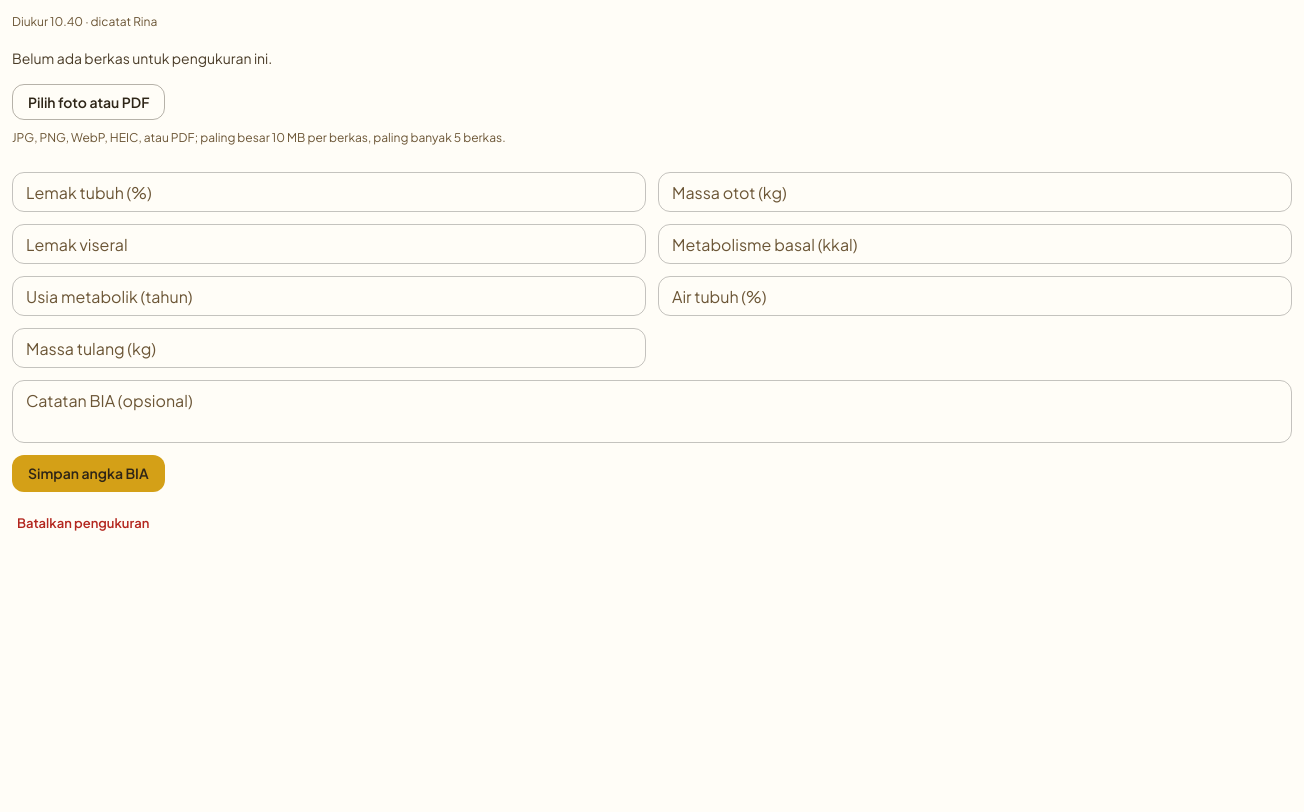
tab BIA halaman kunjungan › menyimpan angka dengan koma desimal, lalu memakai versi baru untuk simpan berikutnya
In the field labelled "Lemak tubuh (%)": coordinates (329, 192) [12,172,646,212], type "28,5"
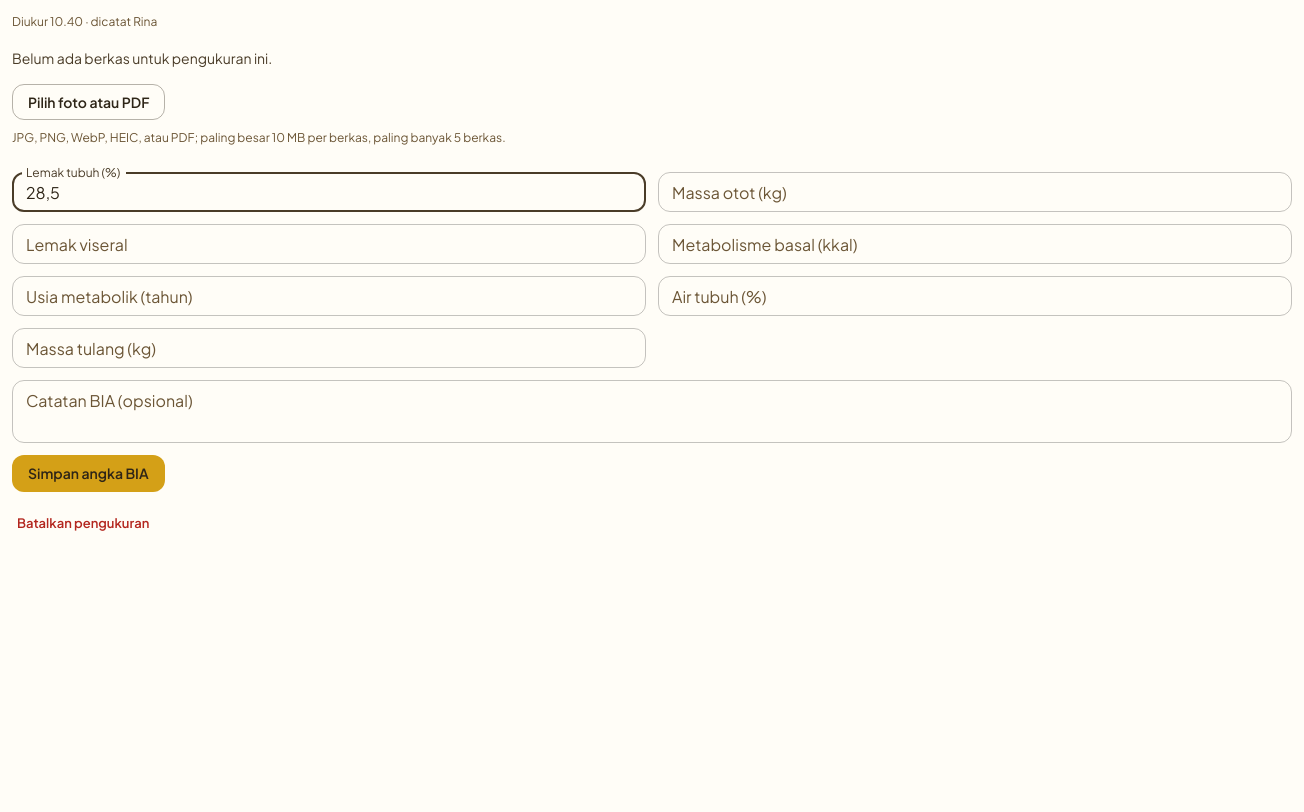
In the field labelled "Massa otot (kg)": coordinates (975, 192) [658,172,1292,212], type "41"
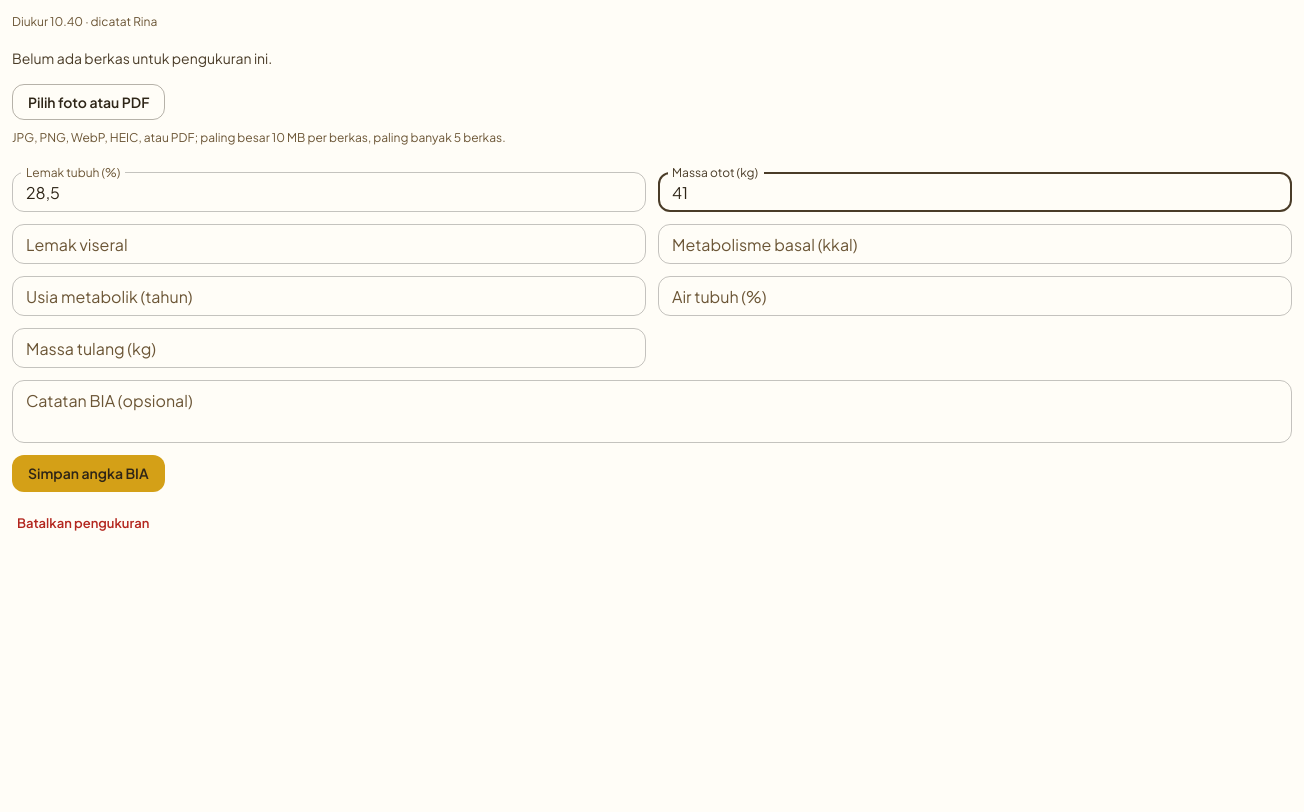
Click the button "Simpan angka BIA": coordinates (88, 474) [12,455,165,492]
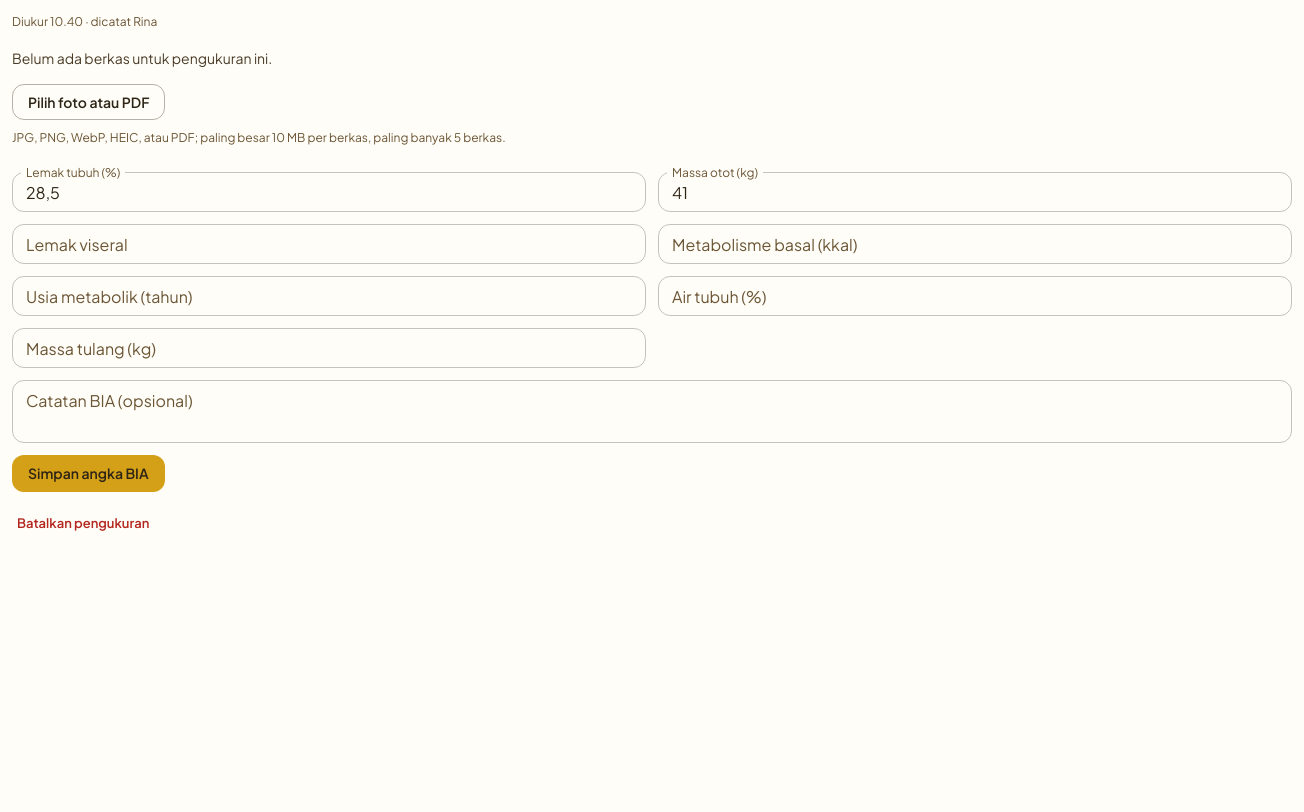
Replace the text in the field labelled "Lemak tubuh (%)" with "1": coordinates (329, 192) [12,172,646,212]
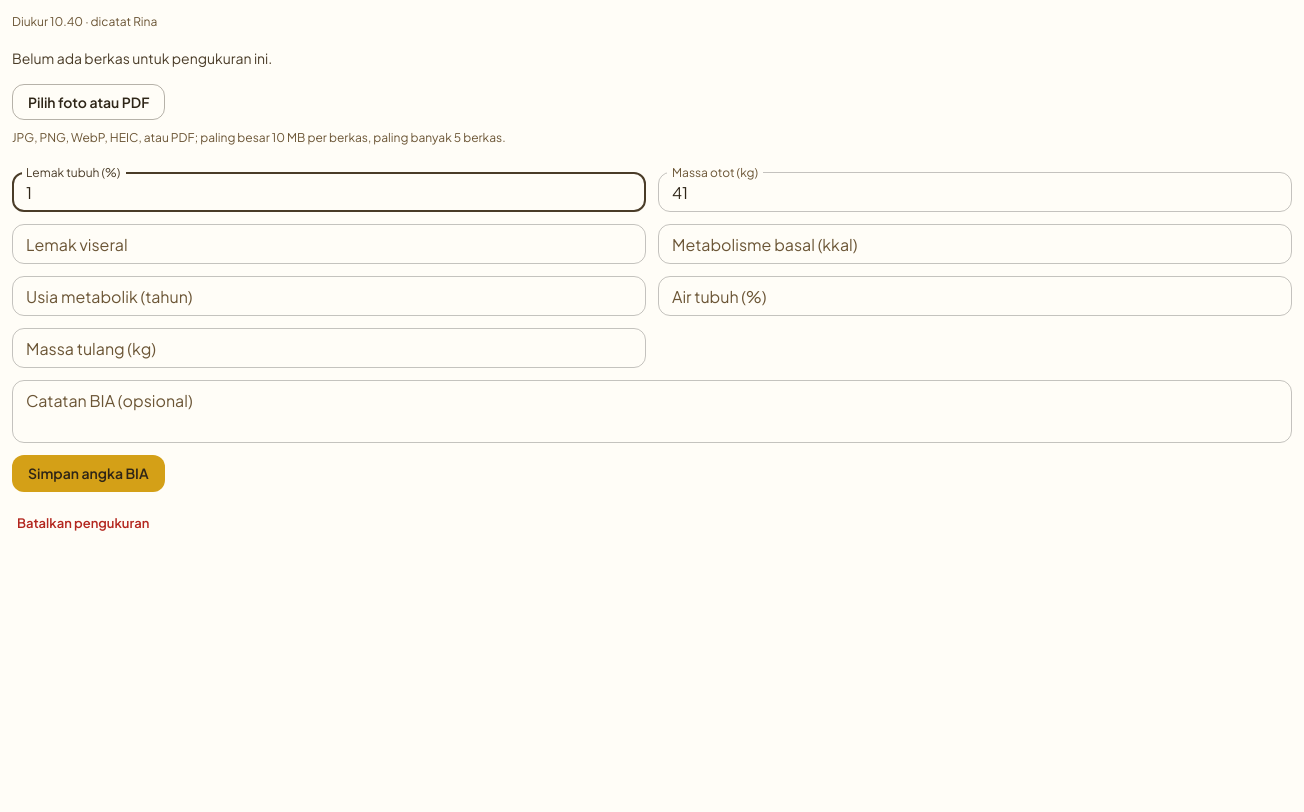
Click the button "Simpan angka BIA": coordinates (88, 474) [12,455,165,492]
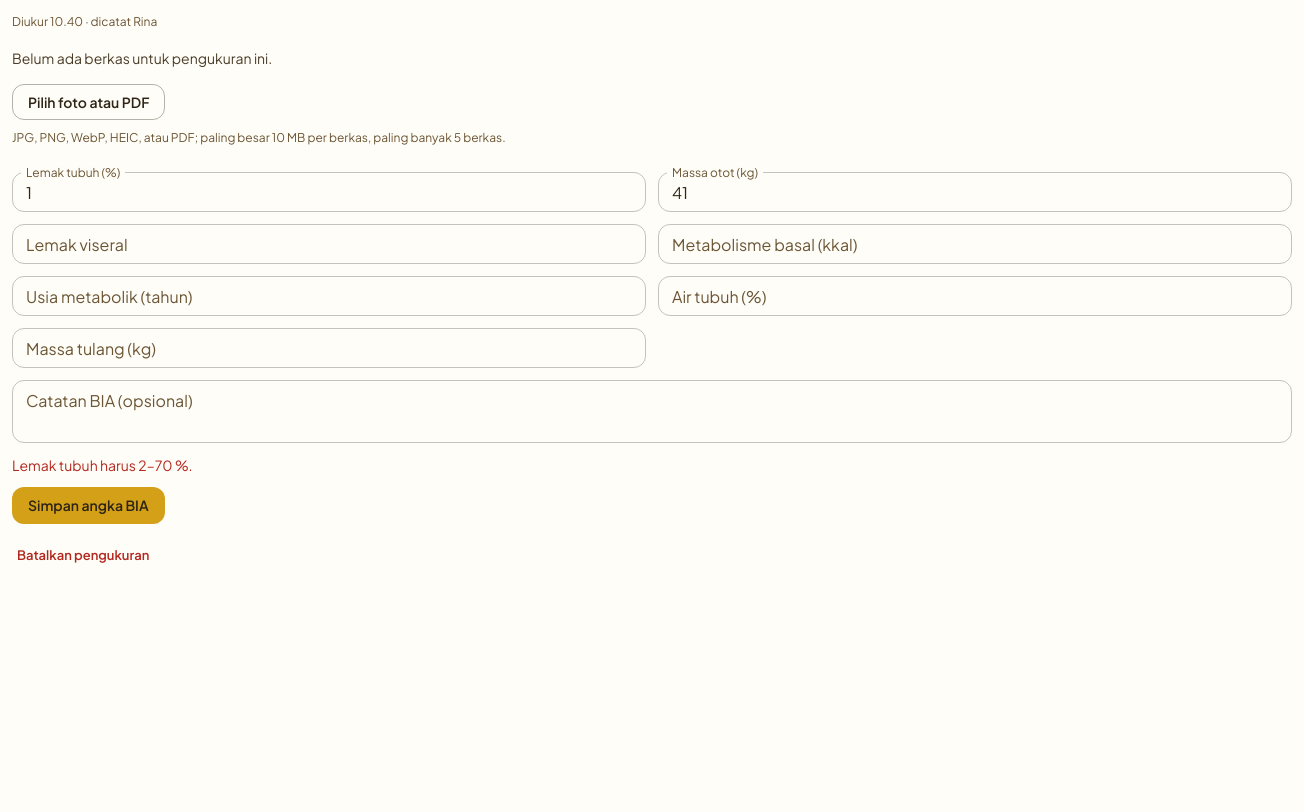
Expected: the text "Lemak tubuh harus 2–70 %." is shown, [12,456,192,474]
